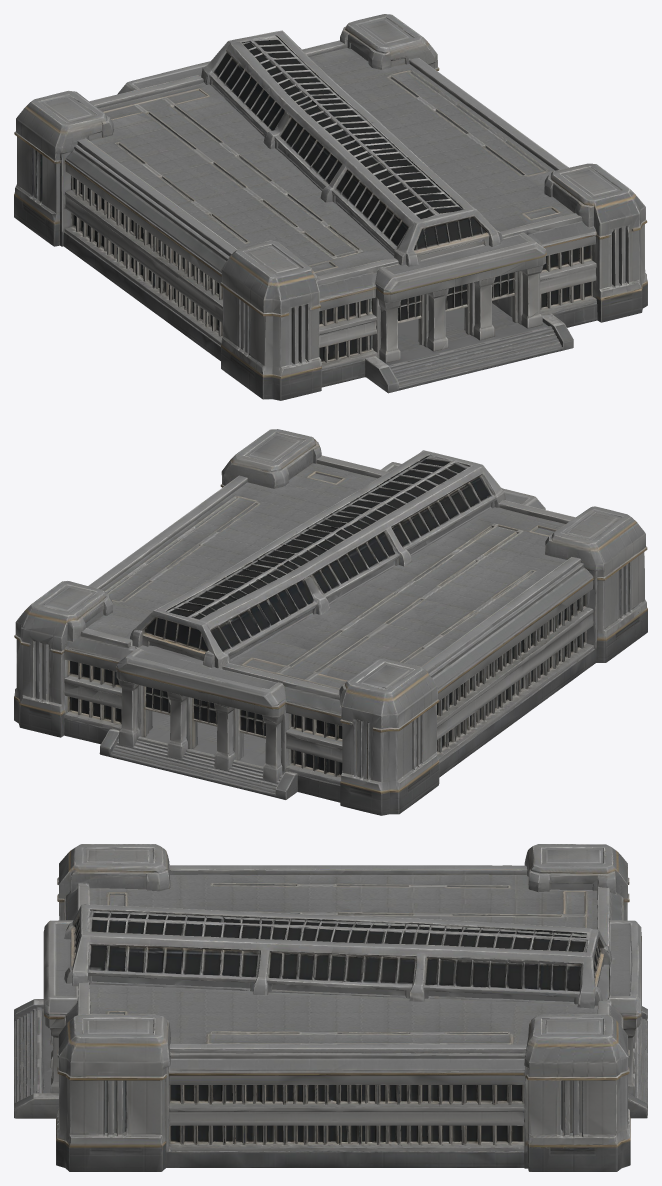
File: imperial_stock_exchange.glb
3 renders of one model, top to bottom at view 1: azimuth 30°, elevation 25°; view 2: azimuth 150°, elevation 25°; view 3: azimuth 270°, elevation 25°, orthographic. The views are drawn at different scales.
Parts seen in each view (by area): view 1: mesh_node; view 2: mesh_node; view 3: mesh_node.
Boxes of the visible parts, left/top/right/bottom form: mesh_node: left=14, top=14, right=647, bottom=400; mesh_node: left=14, top=429, right=647, bottom=815; mesh_node: left=14, top=844, right=647, bottom=1171.
Bounding box in the file's own units: 28.46 × 9.44 × 36.79.
1 material, 1 textured.
